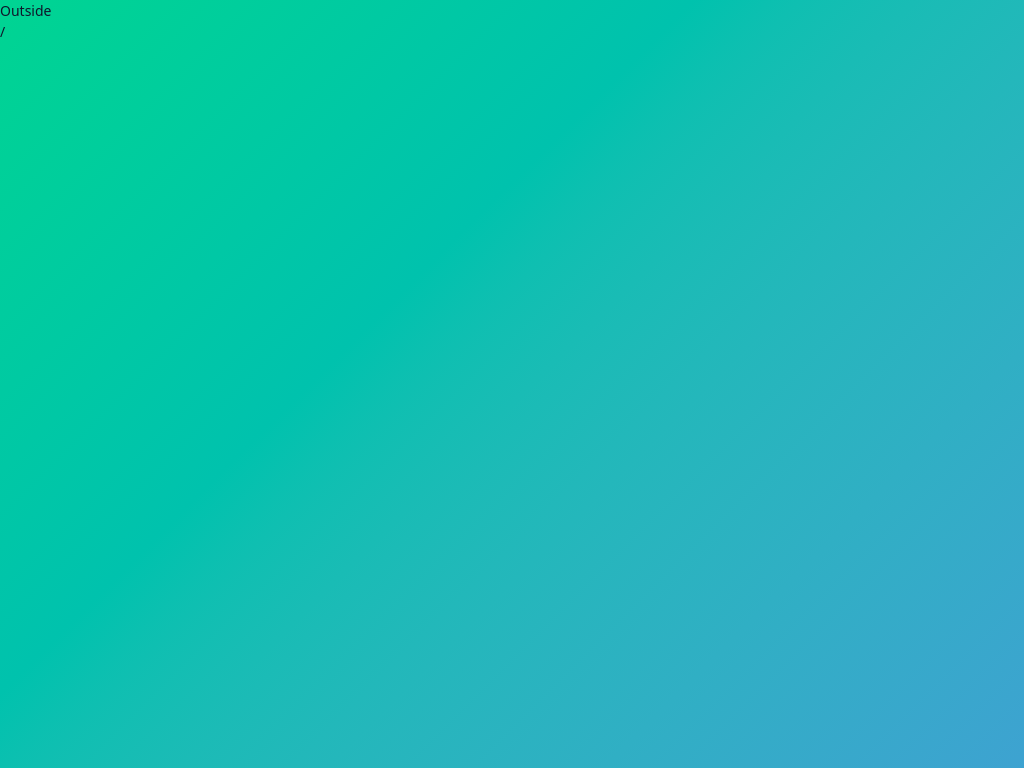
it: SiteSearchModal › should show a message when nothing matches
Press k
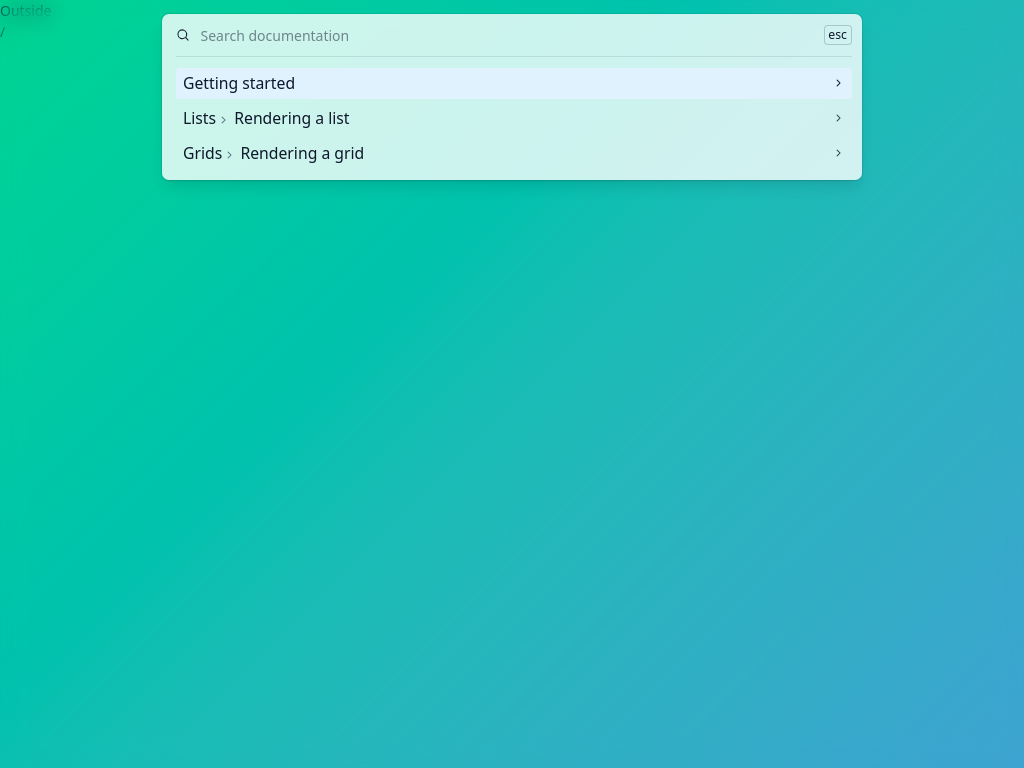
Type "xylophone" into the dropdown labelled "Search documentation".
click(507, 35); type("xylophone")  # box [200,24,813,46]
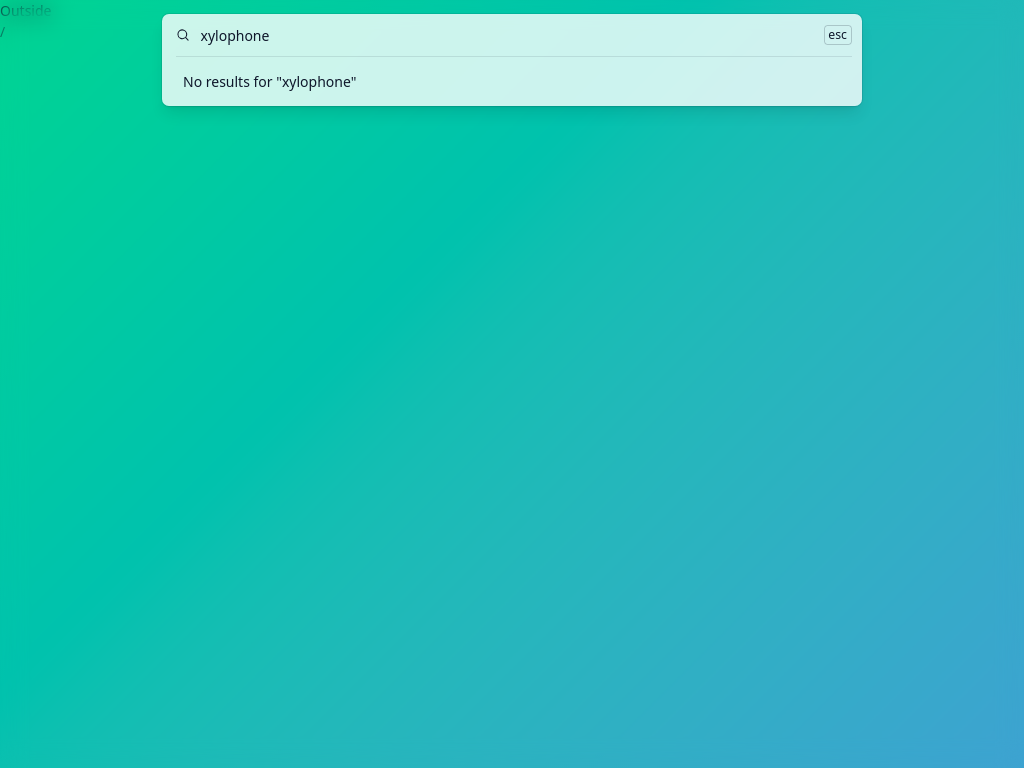
Expected: the text "No results for \"xylophone\"" is shown, [183,72,356,91]
